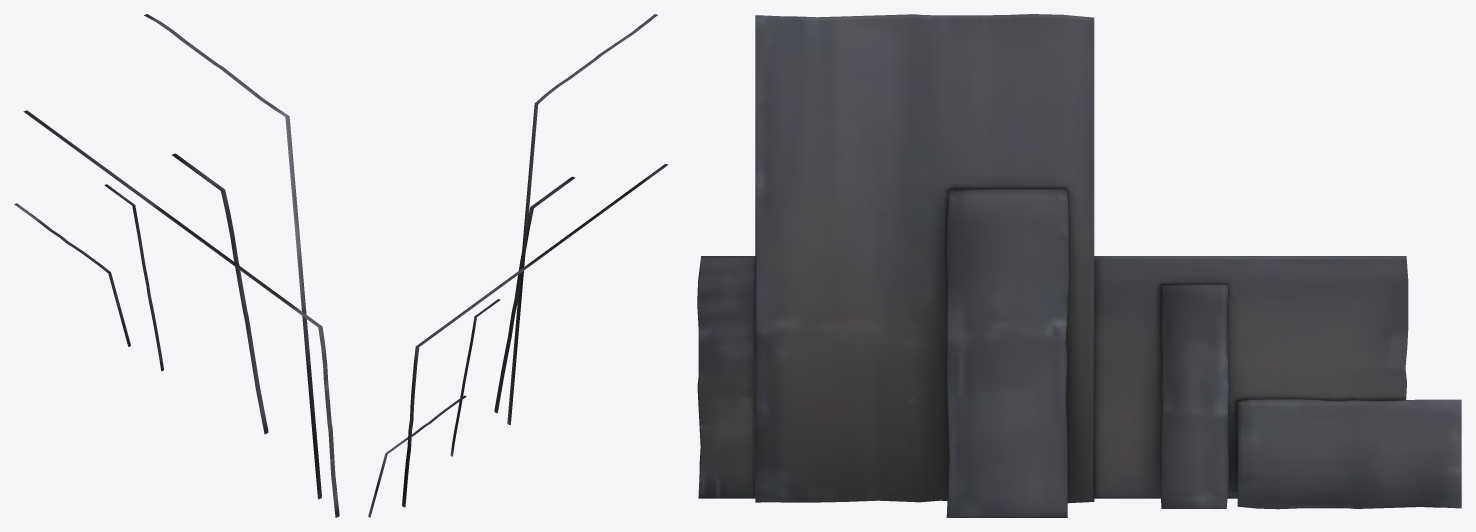
The picture shows the model from 3 angles, left to right: view 1: azimuth 30°, elevation 25°; view 2: azimuth 150°, elevation 25°; view 3: azimuth 270°, elevation 25°; orthographic projection. The views are drawn at different scales.
Visible parts, largest first — view 1: body0_model0_lod0_mesh0; view 2: body0_model0_lod0_mesh0; view 3: body0_model0_lod0_mesh0.
Part boxes in pixels (bbox=[...]): body0_model0_lod0_mesh0: bbox=[14, 14, 339, 517]; body0_model0_lod0_mesh0: bbox=[368, 14, 668, 517]; body0_model0_lod0_mesh0: bbox=[697, 14, 1461, 517].
Bounding box in the file's own units: 22.27 × 131 × 193.
Materials: 1 (1 with a texture image).
